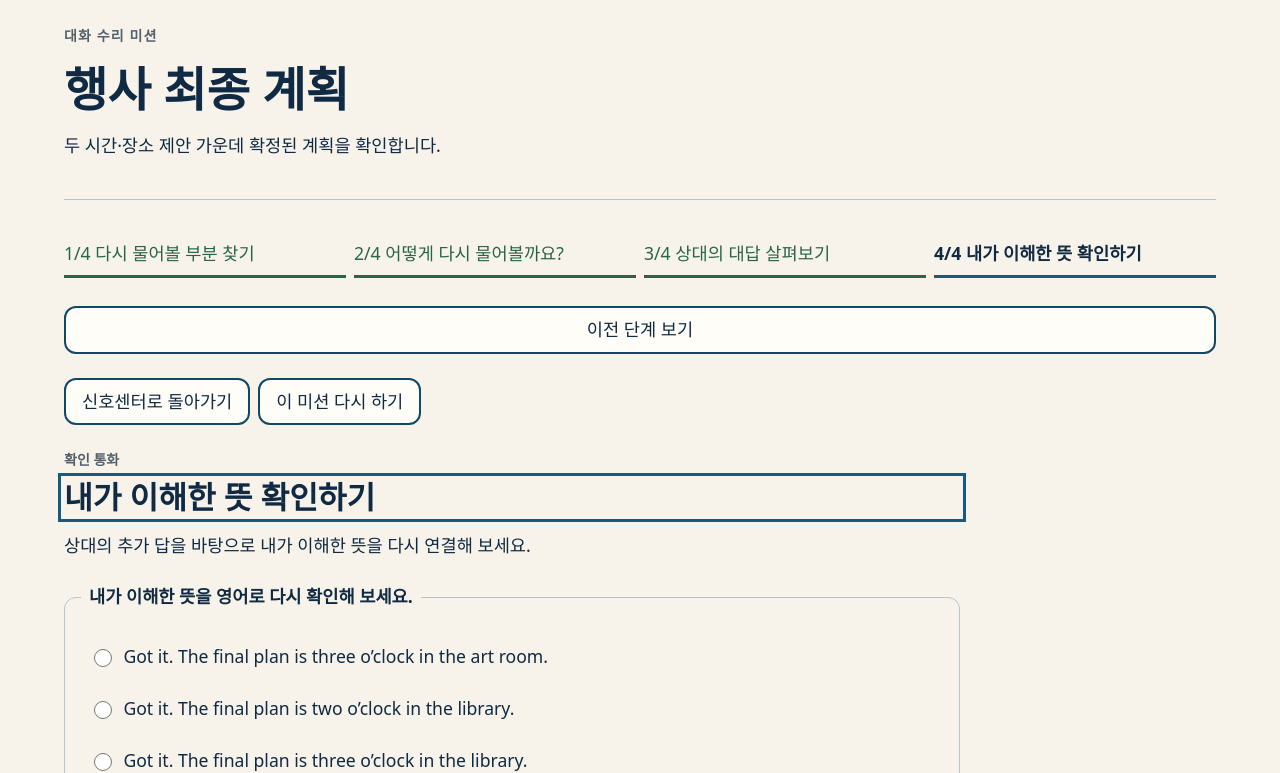
Test: ConfirmationCall › requires a final confirmation before showing the record
Click the radio button labelled "Got it. The final plan is three o’clock in the art room.": (103, 658) [94,649,112,667]
(page scrolled)
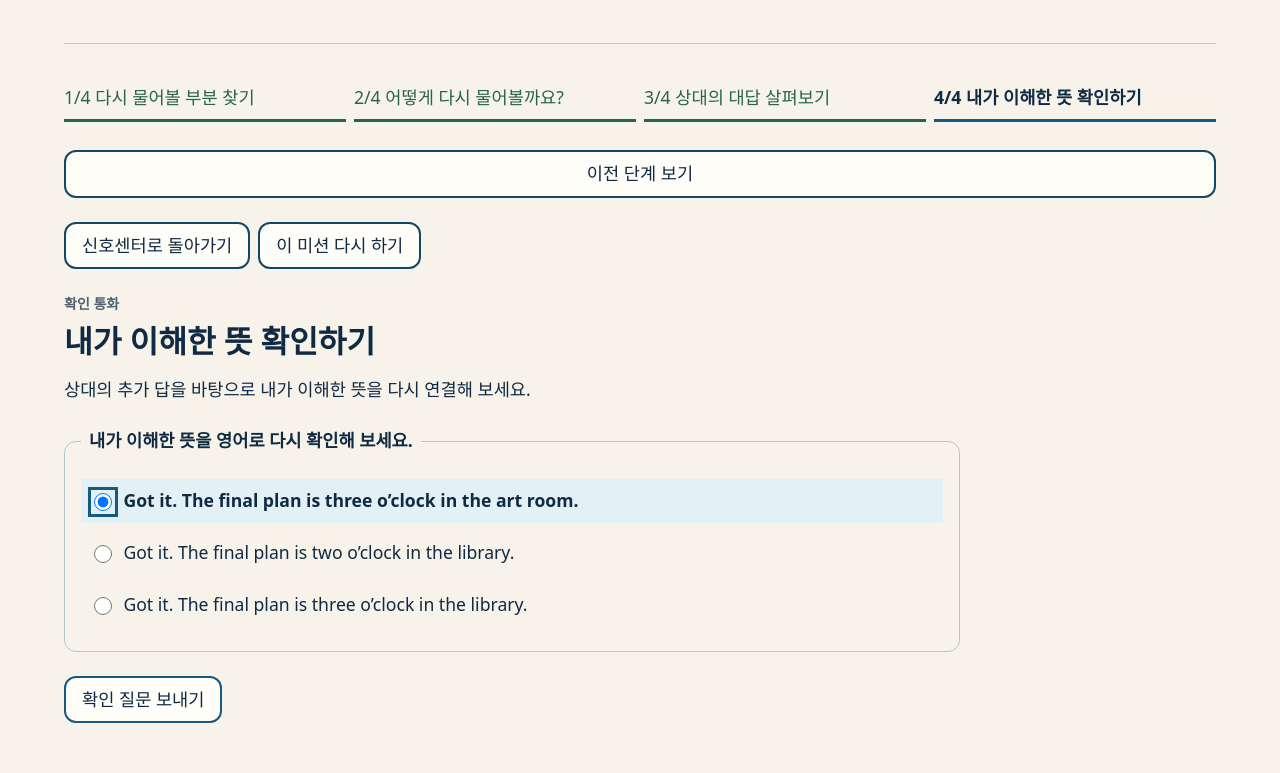
Click the button "확인 질문 보내기": (143, 699) [64,676,222,723]
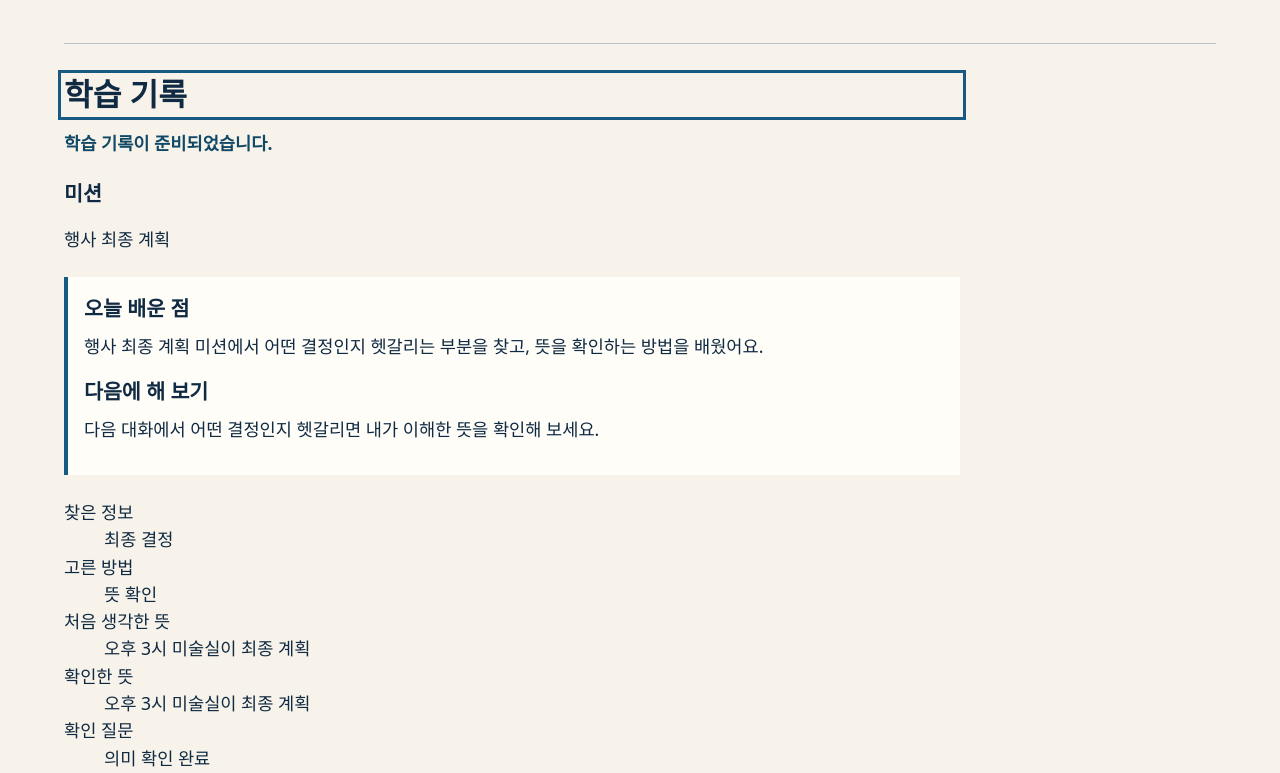
Check: the text "뜻 확인" is shown, box [104,582,157,606]
Check: the heading "학습 기록" is shown, box [64,73,187,115]
Check: the text "의미 확인 완료" is shown, box [104,746,210,770]
